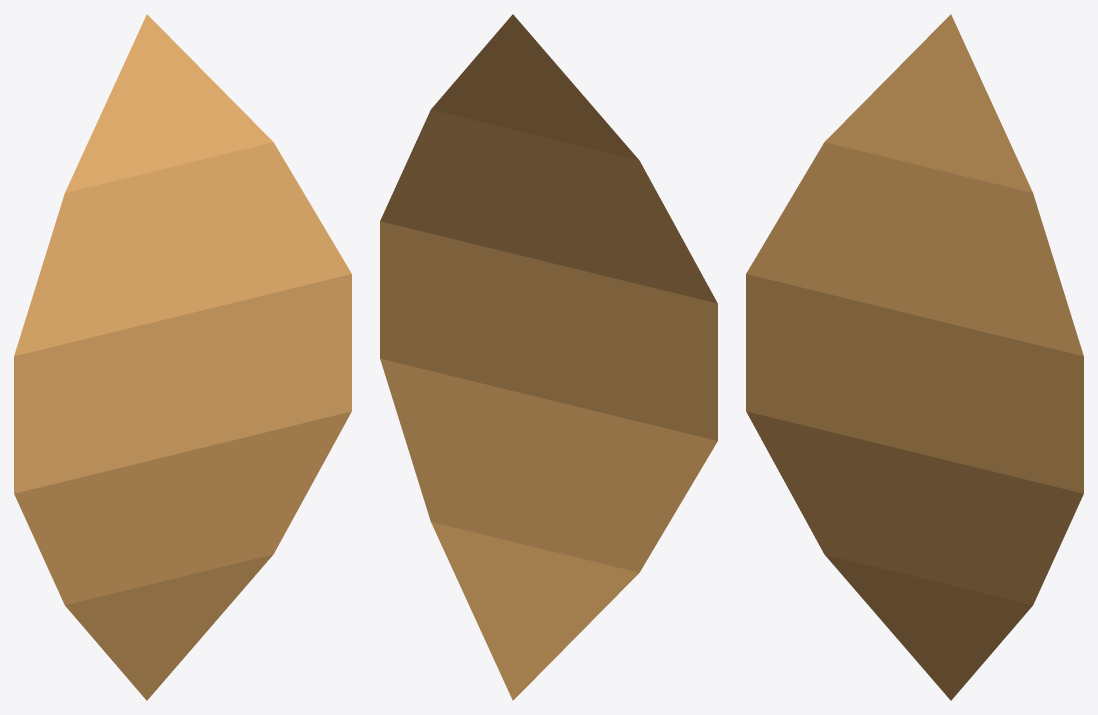
File: weather_autumn_leaf.glb
3 views of the same model, side by side, from view 1: azimuth 30°, elevation 25°; view 2: azimuth 150°, elevation 25°; view 3: azimuth 330°, elevation 25° (orthographic).
Visible parts, largest first — view 1: bending_autumn_leaf; view 2: bending_autumn_leaf; view 3: bending_autumn_leaf.
Part boxes in pixels (x1,y1,x2,y2): bending_autumn_leaf: (14,14,351,700); bending_autumn_leaf: (380,14,717,700); bending_autumn_leaf: (746,14,1083,700).
Size of the model in its own units: 0.4375 by 0.85 by 0.0808.
